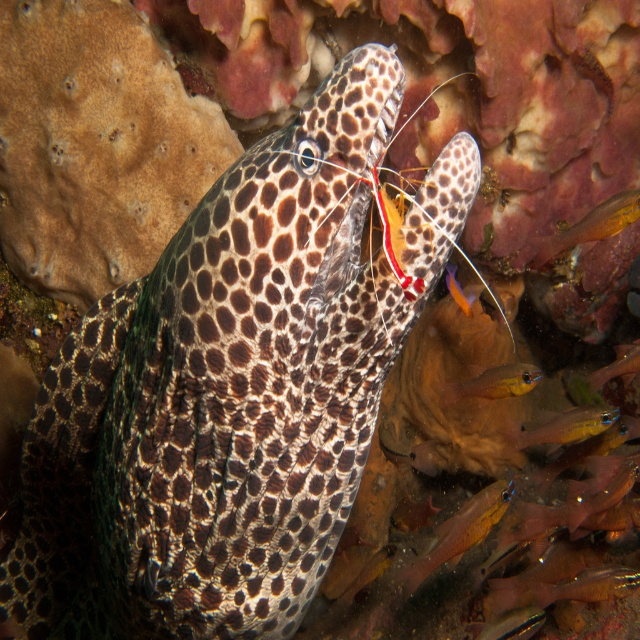Fish: (0, 41, 517, 639)
